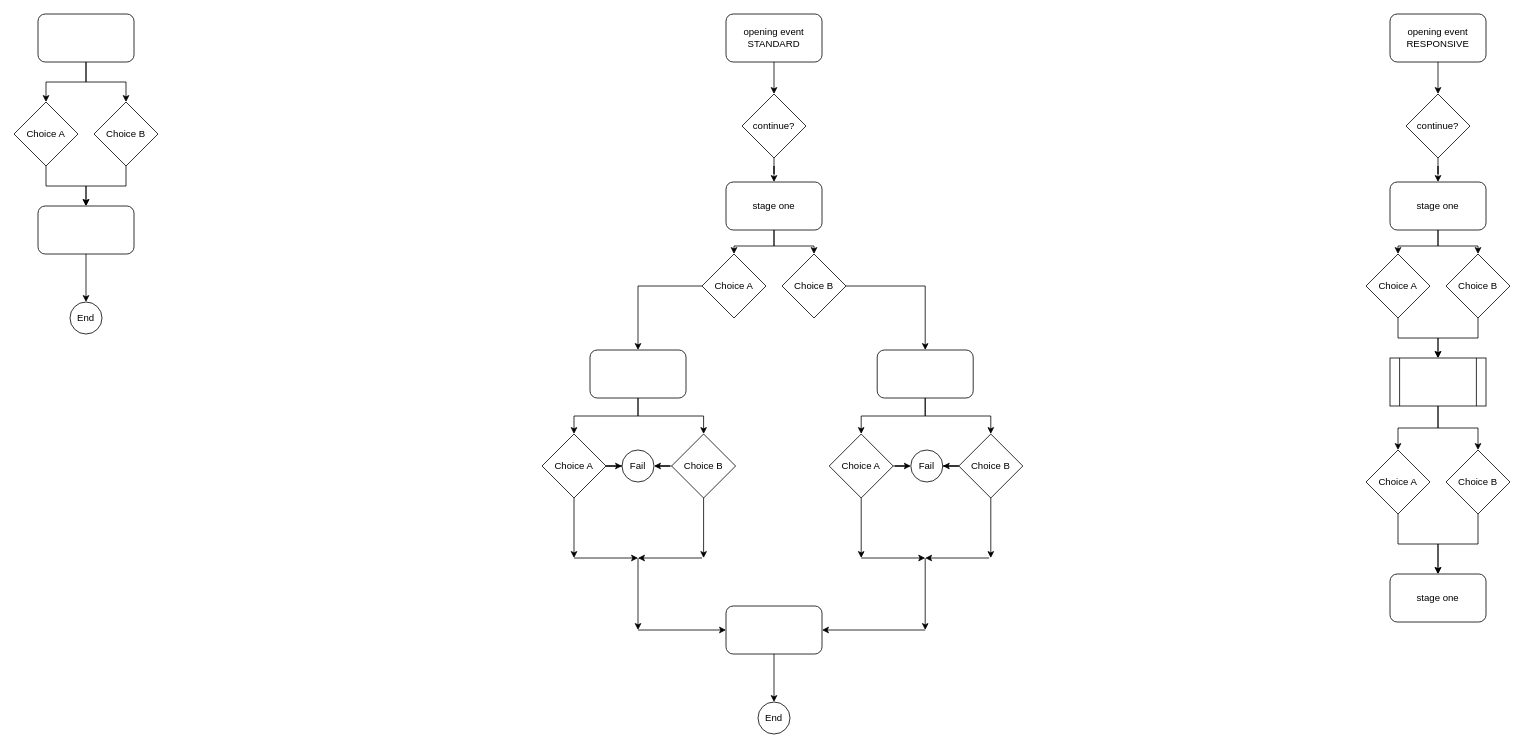
Image size: 1524x748. Some labels were removed from this diagram. Each missing label, with the centre of its shape:
"Final Stage" goes at (x=85, y=229).
"opening event BASIC" goes at (x=85, y=37).
"Stage 1/2 A" goes at (x=637, y=373).
"Stage 1/2 B" goes at (x=924, y=373).
"stage two" goes at (x=773, y=629).
"Target gets event" goes at (x=1437, y=381).
